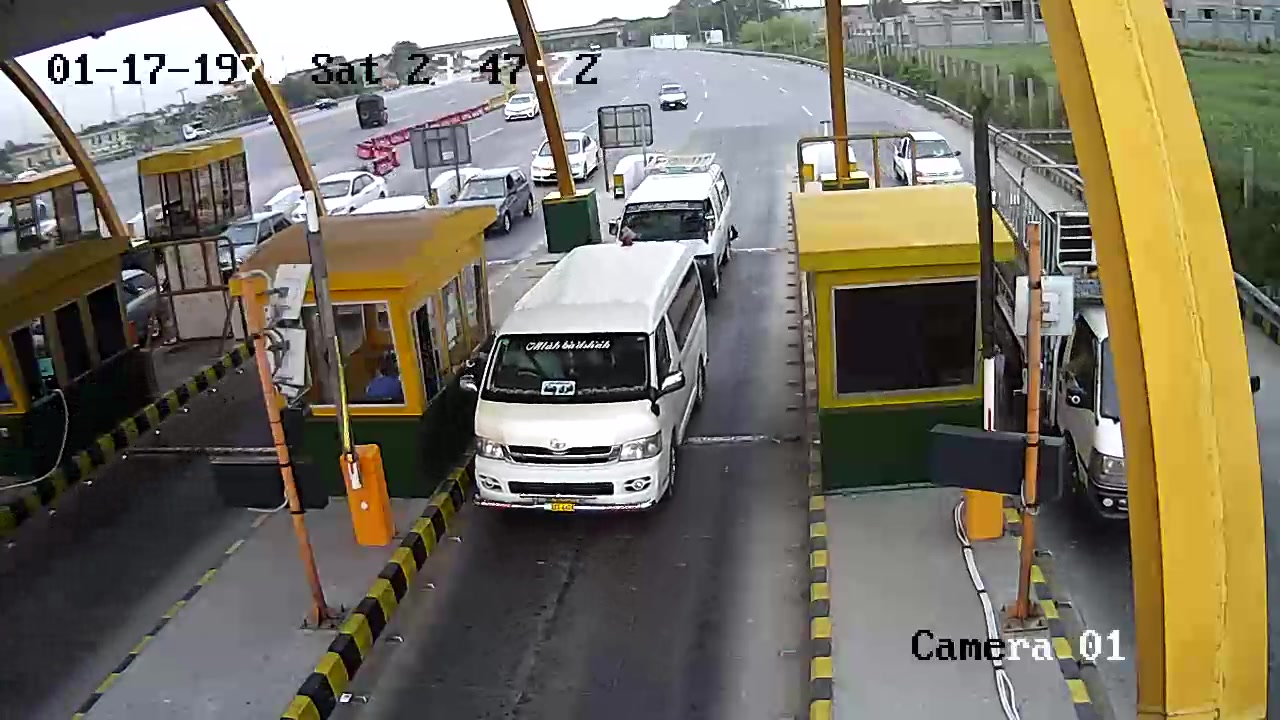F2: (466, 238, 703, 521)
